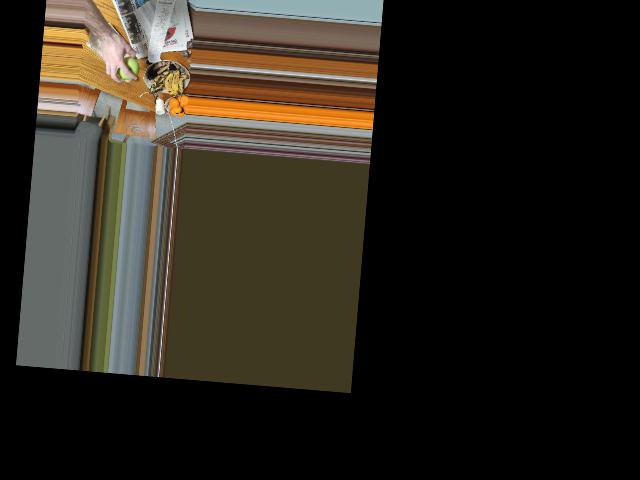apple: (115, 55, 139, 81)
